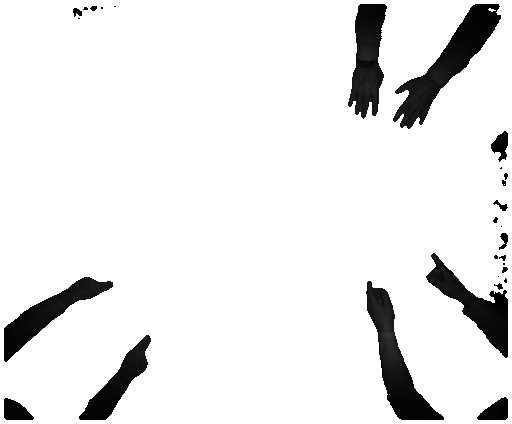hand: (392, 78, 442, 132), (424, 248, 469, 303), (344, 65, 383, 119), (360, 280, 398, 327), (69, 272, 119, 307), (120, 328, 151, 381)
